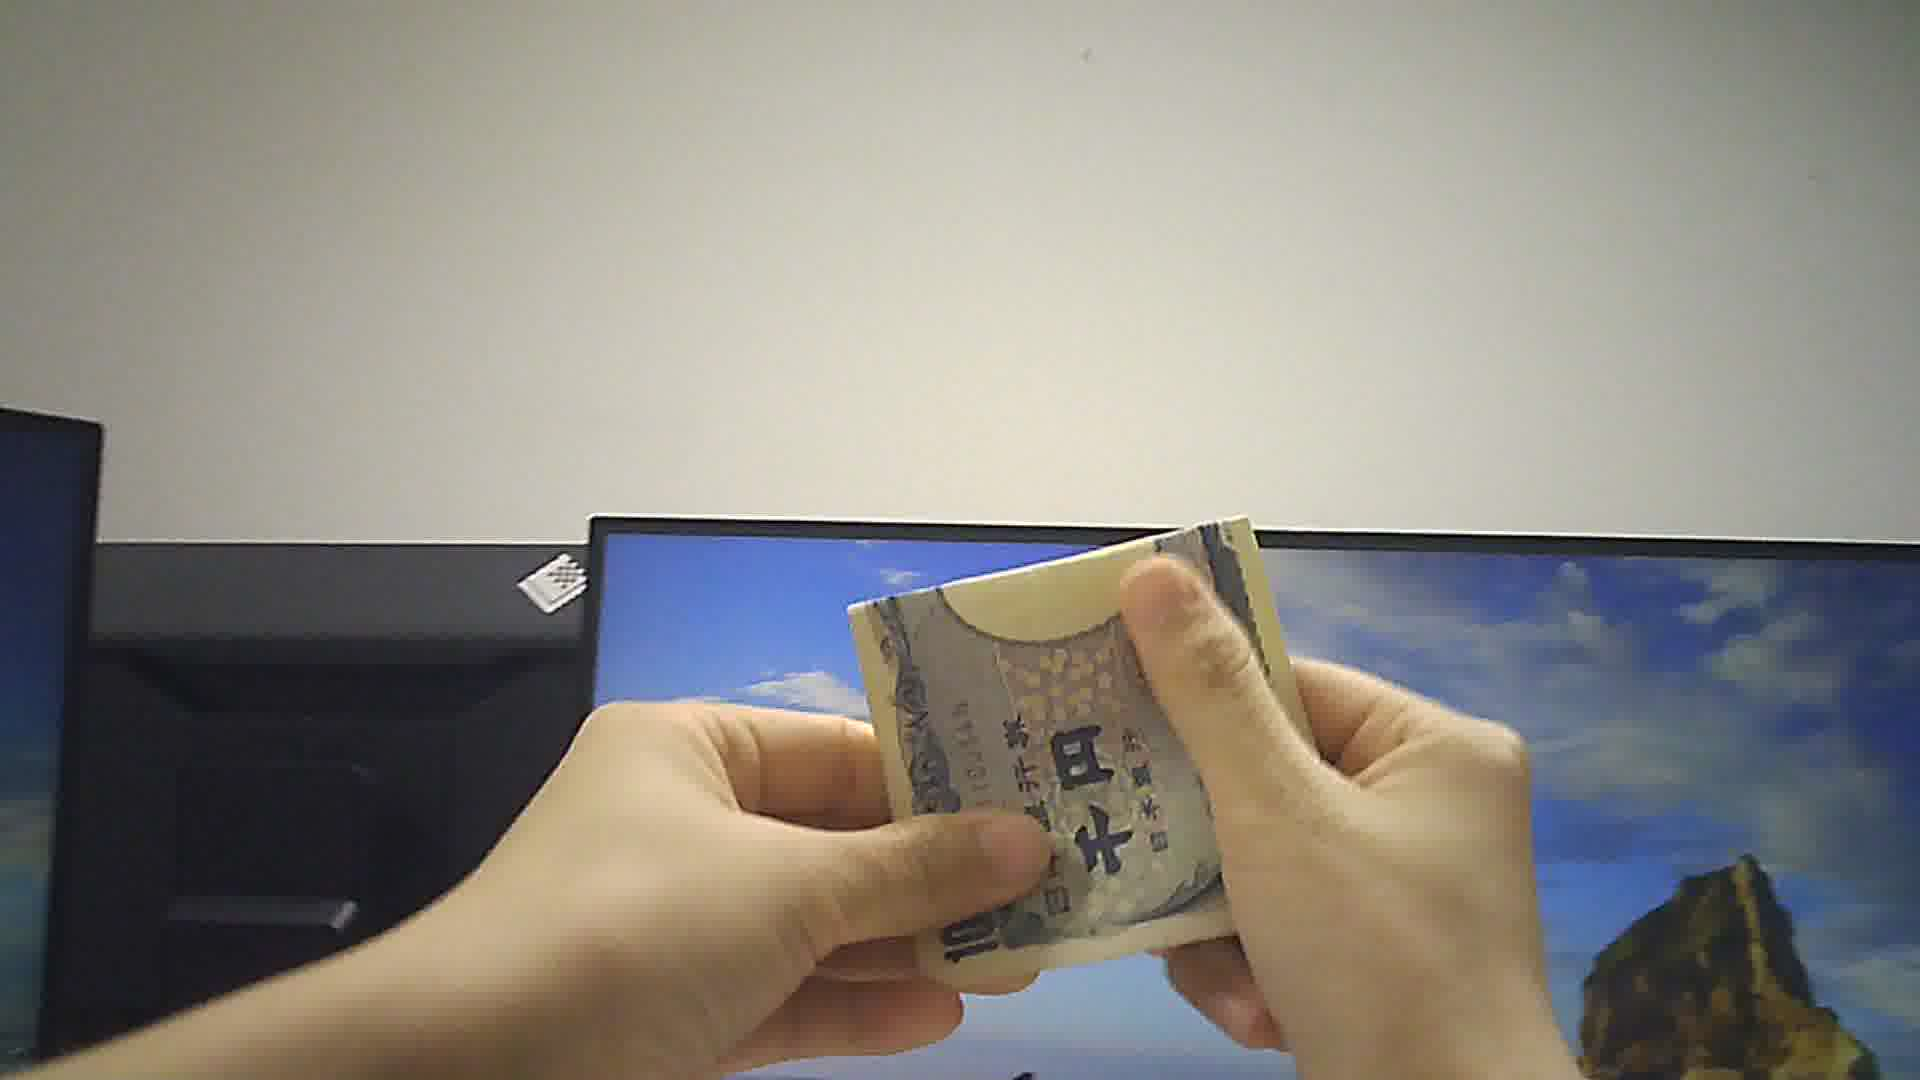1,000 Yen: (823, 512, 1324, 977)
